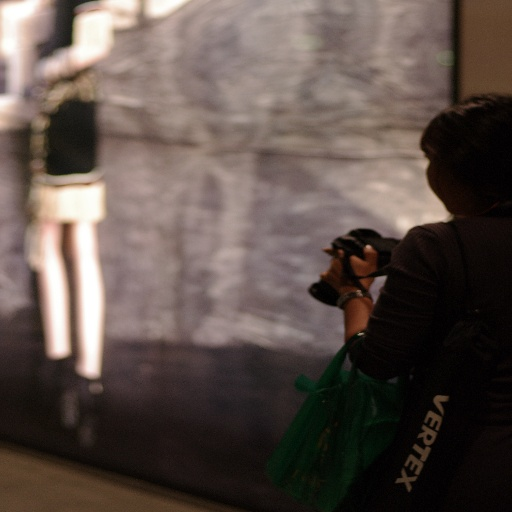hand: (316, 240, 375, 290)
